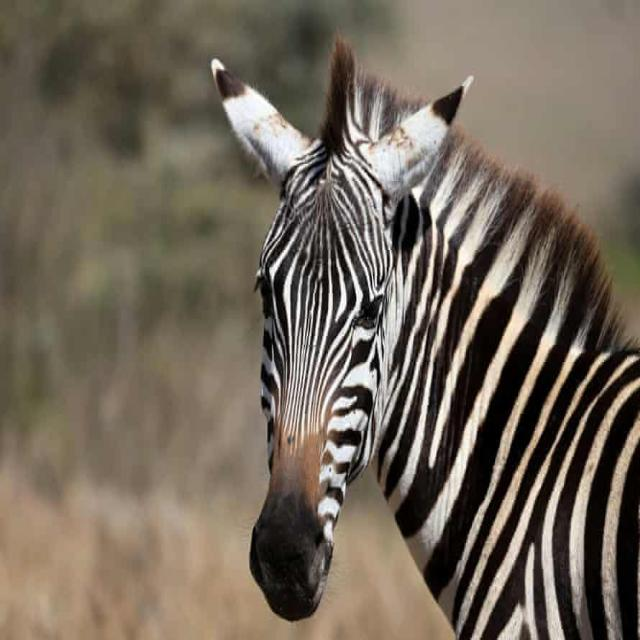Zebra: (203, 32, 640, 638)
